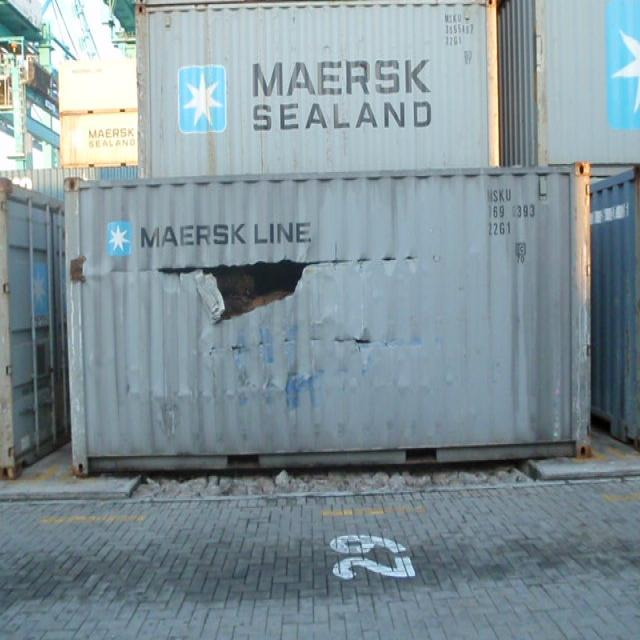dent: (122, 371, 470, 419)
